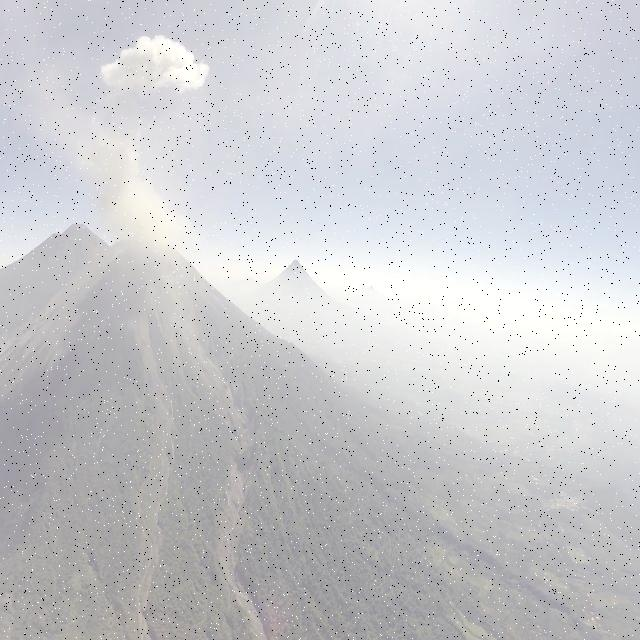Plume: (70, 110, 200, 258), (102, 27, 216, 100)
